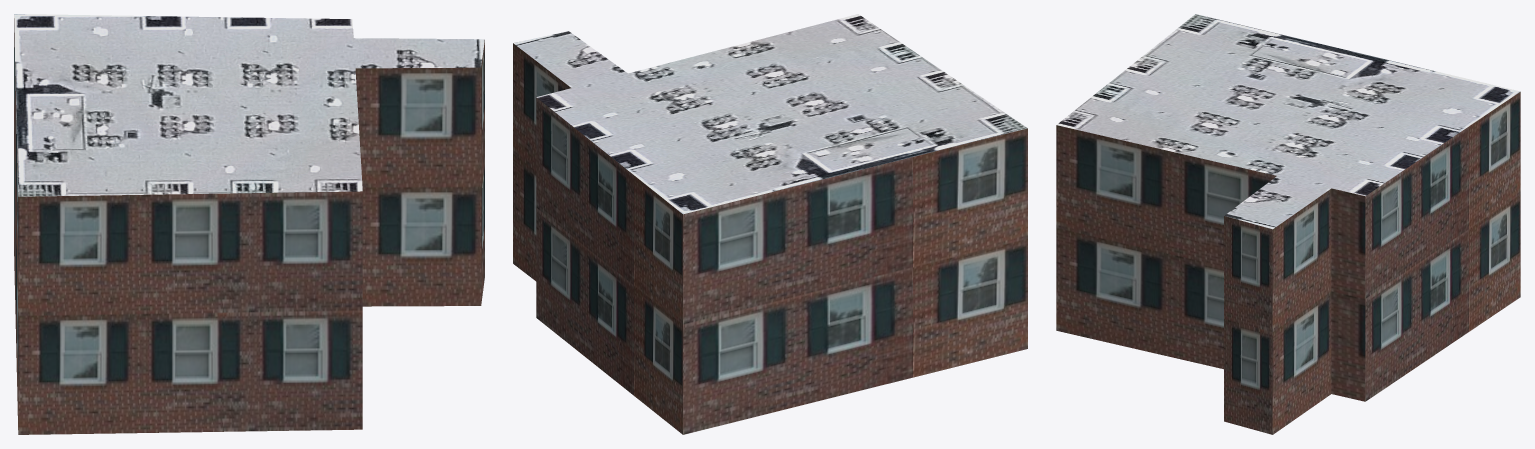
The model's file is ResTex__3620.fbx.
The picture shows the model from 3 angles, left to right: view 1: azimuth 30°, elevation 25°; view 2: azimuth 150°, elevation 25°; view 3: azimuth 270°, elevation 25°; orthographic projection. The views are drawn at different scales.
Parts seen in each view (by area): view 1: CityEngineMaterial_14_m, CityEngineMaterial_4_m; view 2: CityEngineMaterial_14_m, CityEngineMaterial_4_m; view 3: CityEngineMaterial_14_m, CityEngineMaterial_4_m.
Part boxes in pixels (x1=…): CityEngineMaterial_14_m: x1=14, y1=18, x2=484, y2=434; CityEngineMaterial_4_m: x1=14, y1=14, x2=484, y2=196; CityEngineMaterial_14_m: x1=513, y1=43, x2=1027, y2=434; CityEngineMaterial_4_m: x1=513, y1=14, x2=1027, y2=214; CityEngineMaterial_14_m: x1=1056, y1=92, x2=1520, y2=434; CityEngineMaterial_4_m: x1=1057, y1=14, x2=1520, y2=229.
Bounding box in the file's own units: 13.48 × 6 × 12.28.
2 materials, 2 textured.
